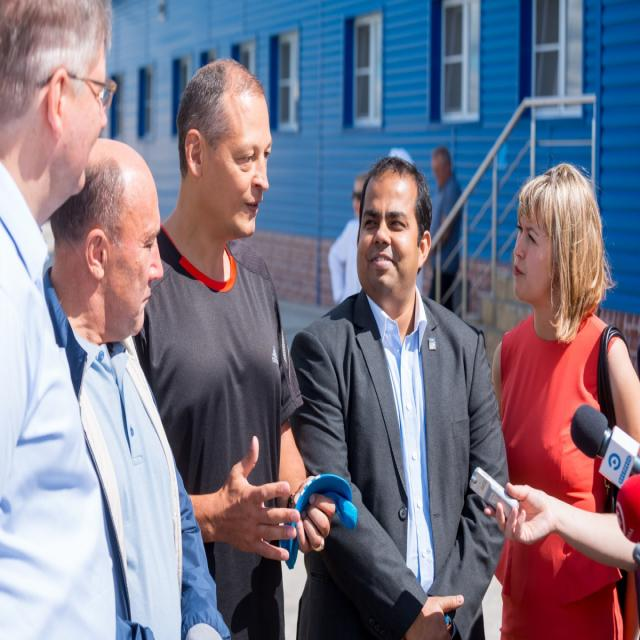body: (129, 55, 339, 640), (280, 147, 512, 639), (0, 0, 148, 639), (49, 137, 226, 636), (482, 155, 640, 640), (566, 400, 639, 538), (428, 146, 464, 314), (327, 171, 367, 307)
